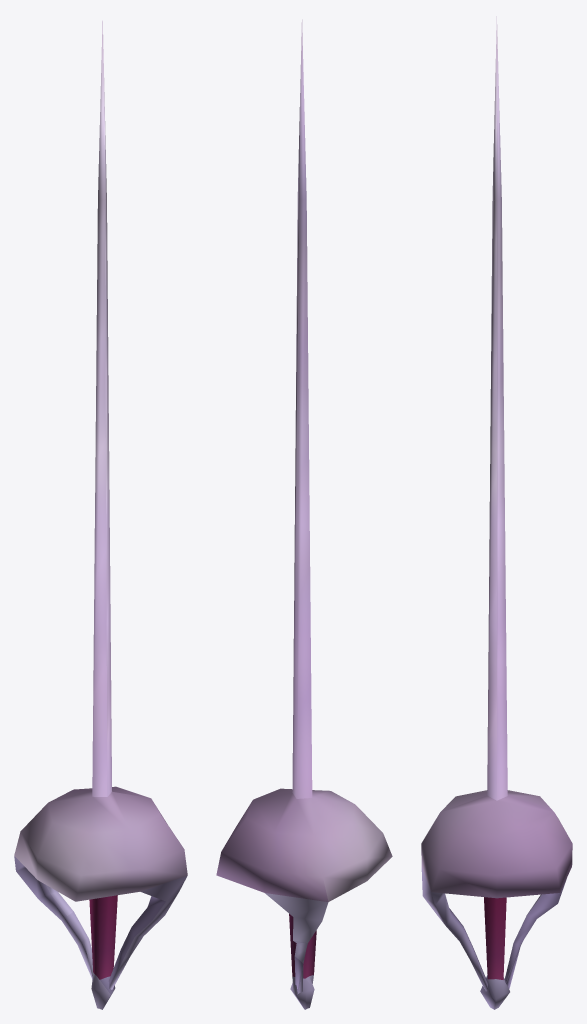
The model's file is SaesRapier.glb.
The picture shows the model from 3 angles, left to right: view 1: azimuth 30°, elevation 25°; view 2: azimuth 150°, elevation 25°; view 3: azimuth 270°, elevation 25°; orthographic projection.
Parts seen in each view (by area): view 1: Cube; view 2: Cube; view 3: Cube.
Boxes of the visible parts, x1=… form: Cube: x1=14, y1=20, x2=187, y2=1009; Cube: x1=216, y1=19, x2=392, y2=1009; Cube: x1=421, y1=16, x2=572, y2=1009.
Size of the model in its own units: 0.5288 by 3.84 by 0.5288.
1 material, 1 textured.
